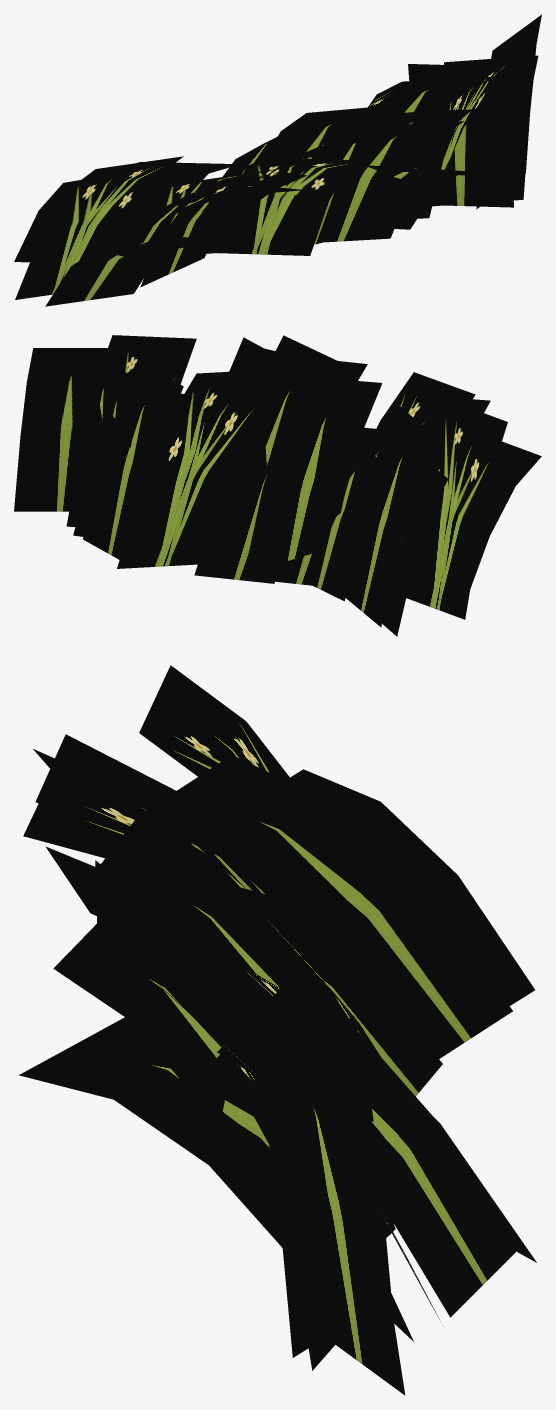
Rendered from Furn_Weeds_WallBase_A.fbx.
3 renders of one model, top to bottom at view 1: azimuth 30°, elevation 25°; view 2: azimuth 150°, elevation 25°; view 3: azimuth 270°, elevation 25°, orthographic. The views are drawn at different scales.
Visible parts, largest first — view 1: Furn_Weeds_WallBase_A; view 2: Furn_Weeds_WallBase_A; view 3: Furn_Weeds_WallBase_A.
Boxes of the visible parts, bbox=[...] form: Furn_Weeds_WallBase_A: bbox=[14, 14, 541, 306]; Furn_Weeds_WallBase_A: bbox=[14, 335, 541, 636]; Furn_Weeds_WallBase_A: bbox=[19, 665, 536, 1395].
Size of the model in its own units: 1 by 0.35 by 0.5.
Materials: 1 (1 with a texture image).
